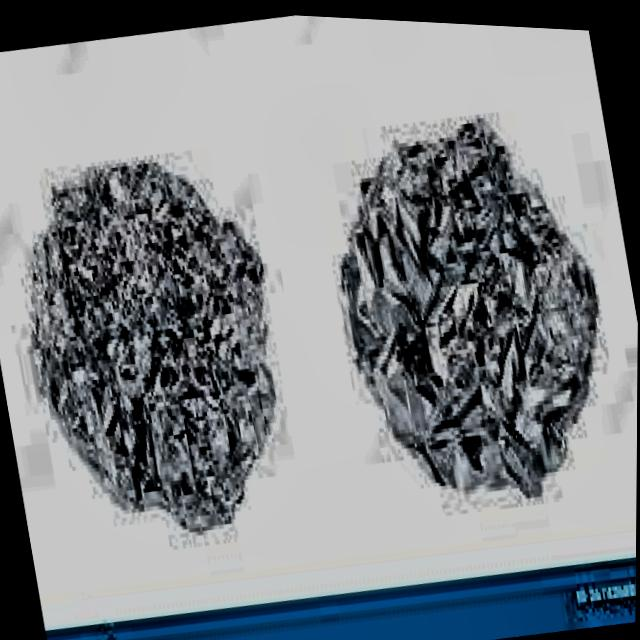Foil: (302, 58, 640, 544), (0, 122, 323, 575)
